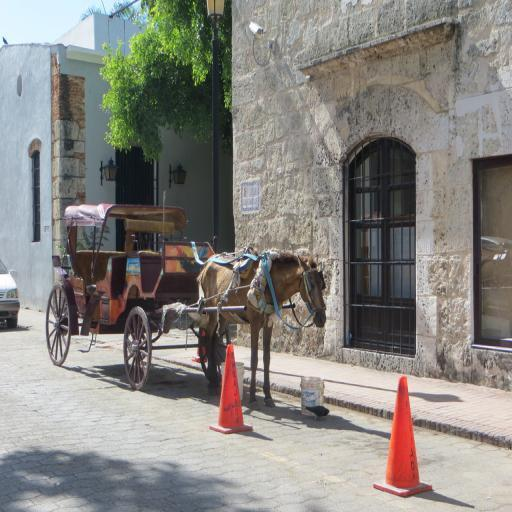horse: (194, 252, 327, 412)
